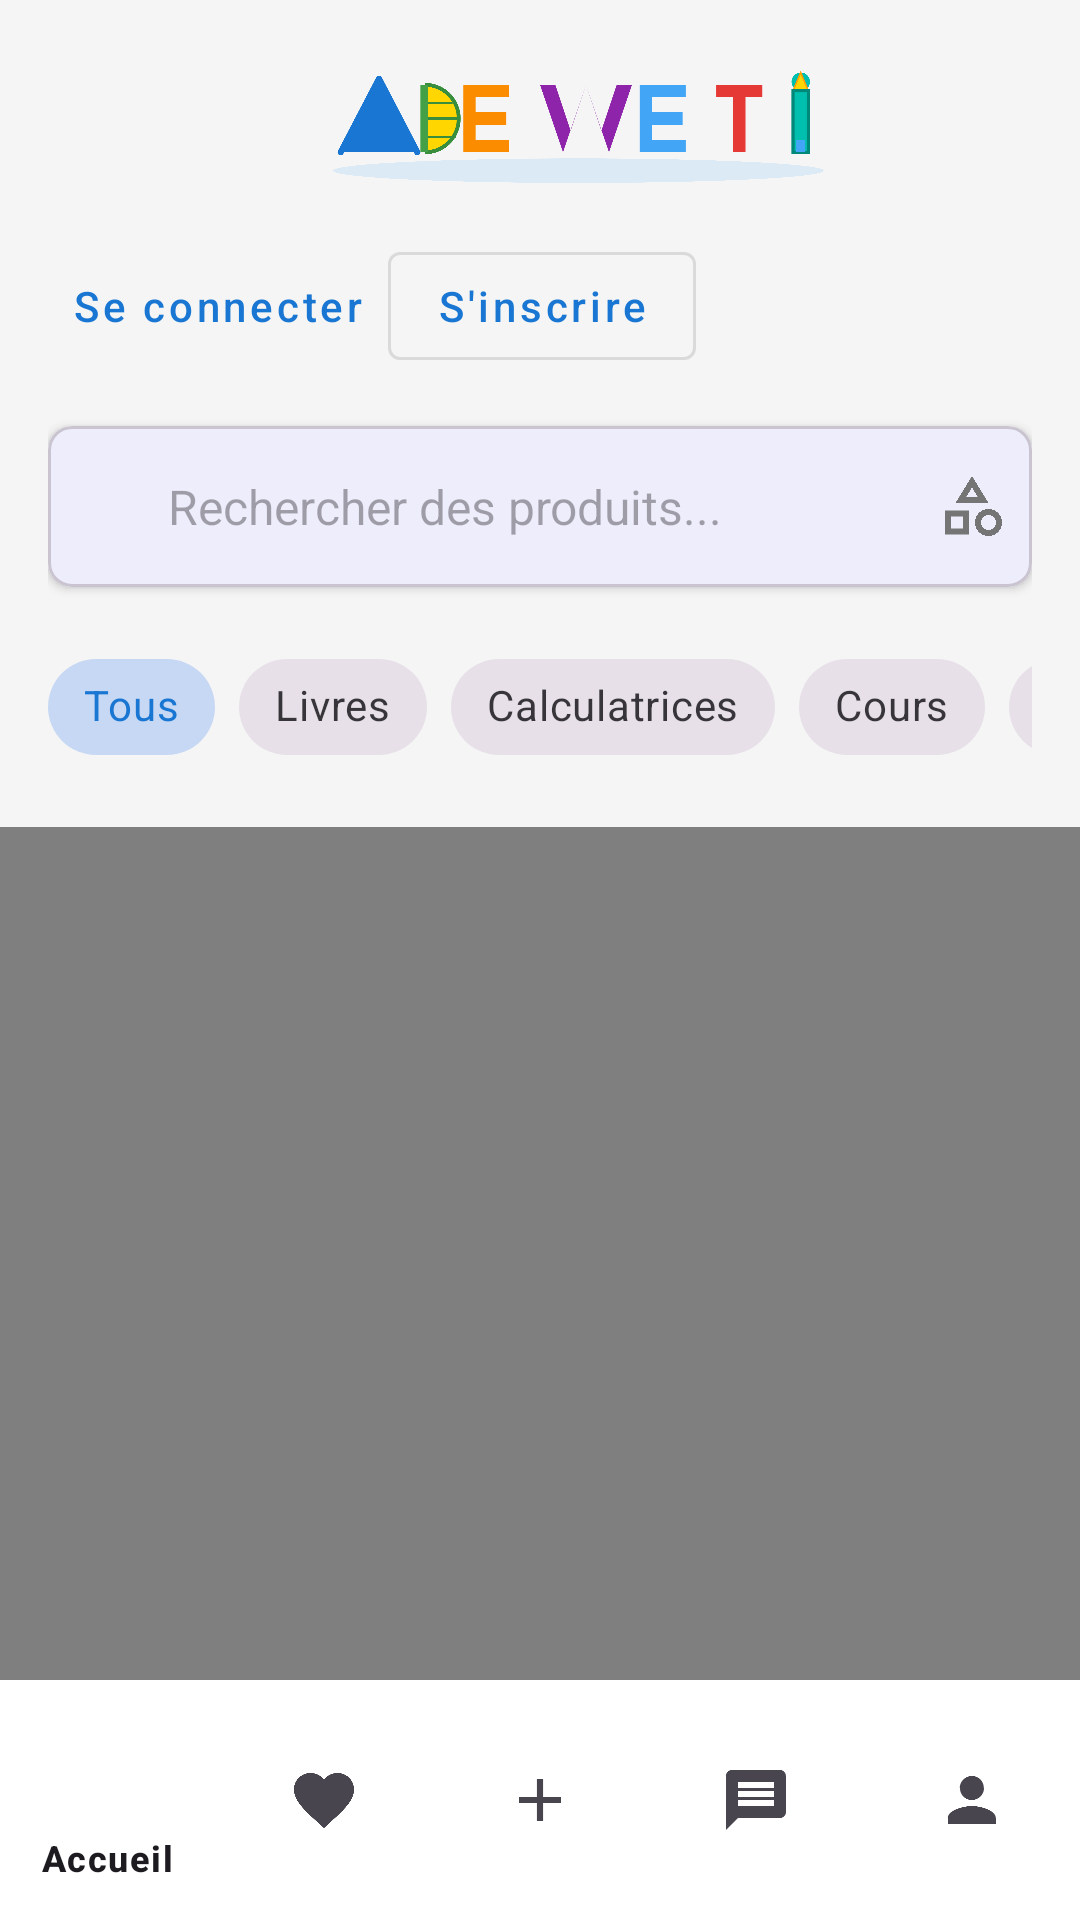

Icons on this 1080w x 1920h Android screen, each with its box as (x1, y1, x2, y2):
category: (945, 477, 1002, 536)
